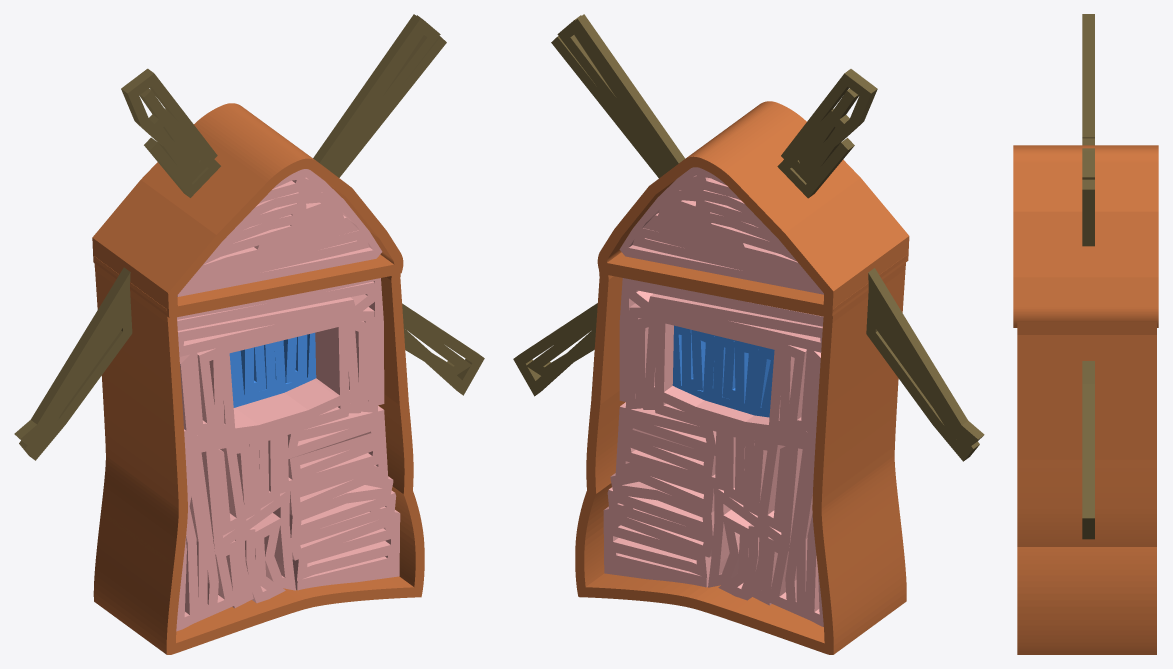
3 views of the same model, side by side, from view 1: azimuth 30°, elevation 25°; view 2: azimuth 150°, elevation 25°; view 3: azimuth 270°, elevation 25° (orthographic). The views are drawn at different scales.
Parts seen in each view (by area): view 1: 21; view 2: 21; view 3: 21.
Boxes of the visible parts, x1,y1,x2,y2 form: 21: (14, 14, 484, 654); 21: (513, 14, 984, 654); 21: (1013, 14, 1158, 654).
Bounding box in the file's own units: 1.01 × 1.16 × 0.2856.
